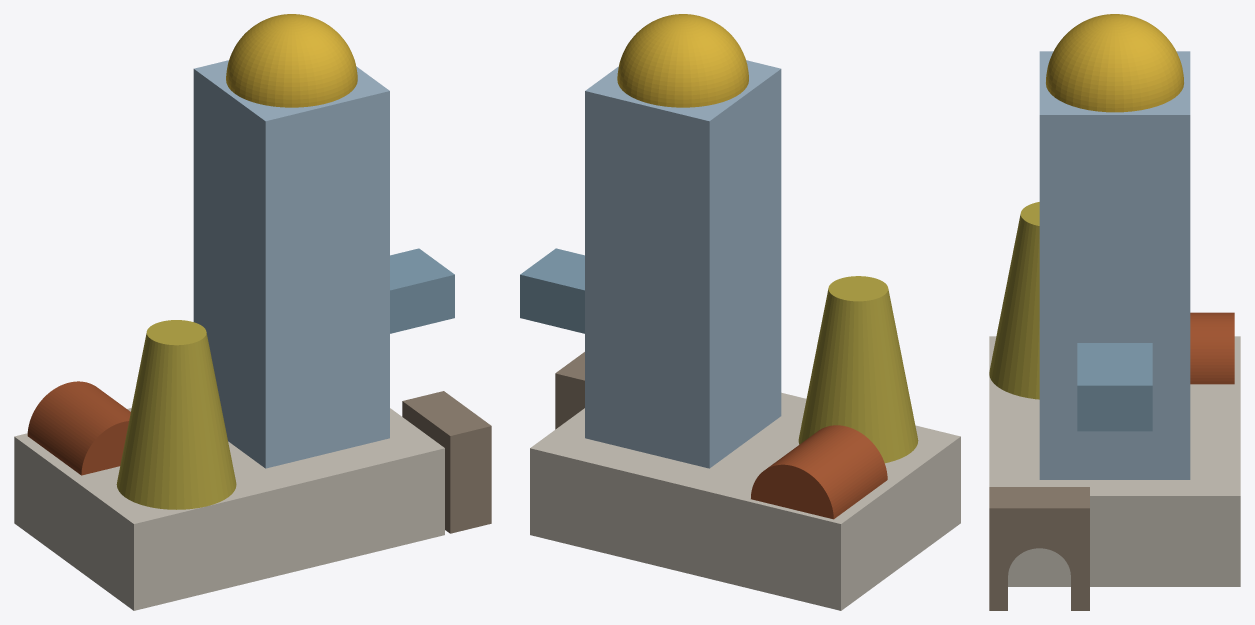
Rendered from complex_tower.glb.
The picture shows the model from 3 angles, left to right: view 1: azimuth 30°, elevation 25°; view 2: azimuth 150°, elevation 25°; view 3: azimuth 270°, elevation 25°; orthographic projection. The views are drawn at different scales.
Visible parts, largest first — view 1: tower, podium, frustum, dome, arch_gate, vault, cantilever; view 2: tower, podium, frustum, dome, vault, cantilever, arch_gate; view 3: tower, podium, dome, arch_gate, frustum, cantilever, vault.
Boxes of the visible parts, box(x1,y1,x2,y2) form: tower: box(193, 60, 389, 468); podium: box(14, 408, 444, 610); frustum: box(116, 320, 236, 509); dome: box(226, 14, 357, 107); arch_gate: box(402, 391, 491, 533); vault: box(27, 381, 130, 475); cantilever: box(390, 248, 454, 333); tower: box(585, 60, 781, 468); podium: box(530, 392, 960, 610); frustum: box(798, 276, 918, 463); dome: box(617, 14, 748, 107); vault: box(751, 425, 887, 519); cantilever: box(520, 248, 584, 333); arch_gate: box(555, 352, 584, 429); tower: box(1039, 51, 1190, 479); podium: box(989, 336, 1240, 586); dome: box(1046, 14, 1183, 112); arch_gate: box(989, 487, 1089, 610); frustum: box(989, 202, 1039, 399); cantilever: box(1077, 343, 1152, 431); vault: box(1190, 312, 1234, 384).
Size of the model in its own units: 35 by 45.5 by 20.
